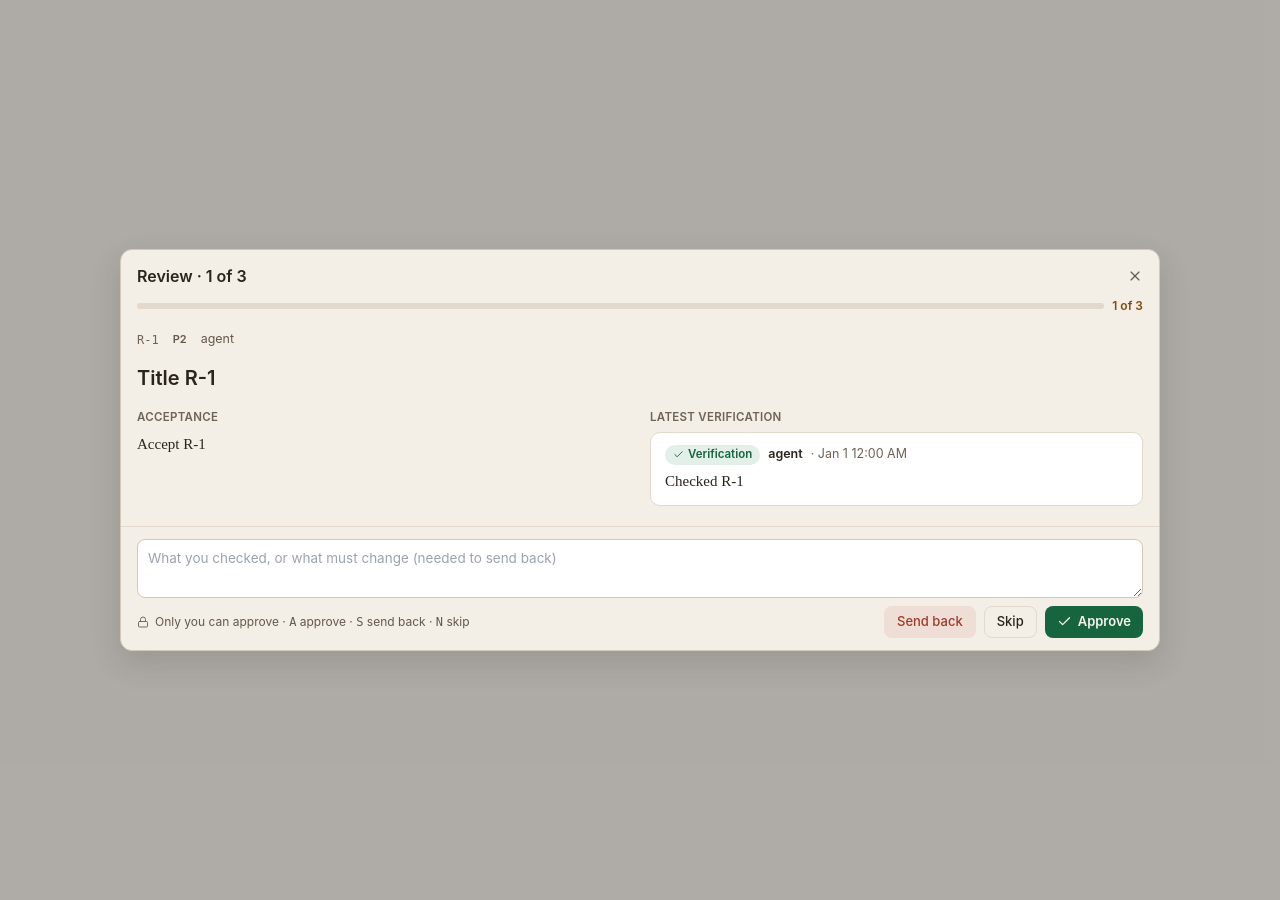
Test: ReviewMode › A approves, S needs a note, N skips; focus moves to each title; then a summary
Press a in the heading "Title R-1", box [137, 366, 216, 390]
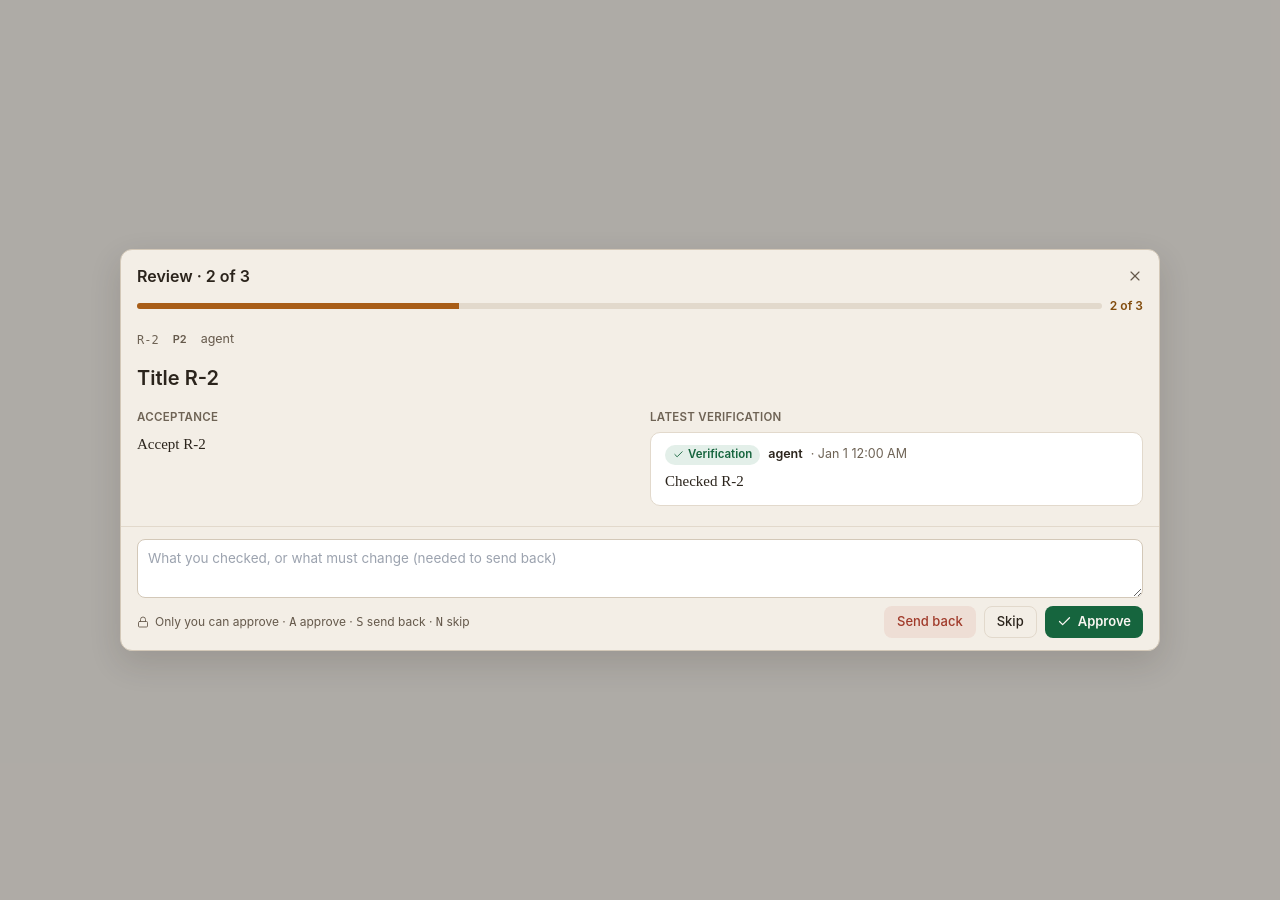
Expected: the heading "Title R-2" is shown
Press s in the heading "Title R-2", box [137, 366, 219, 390]
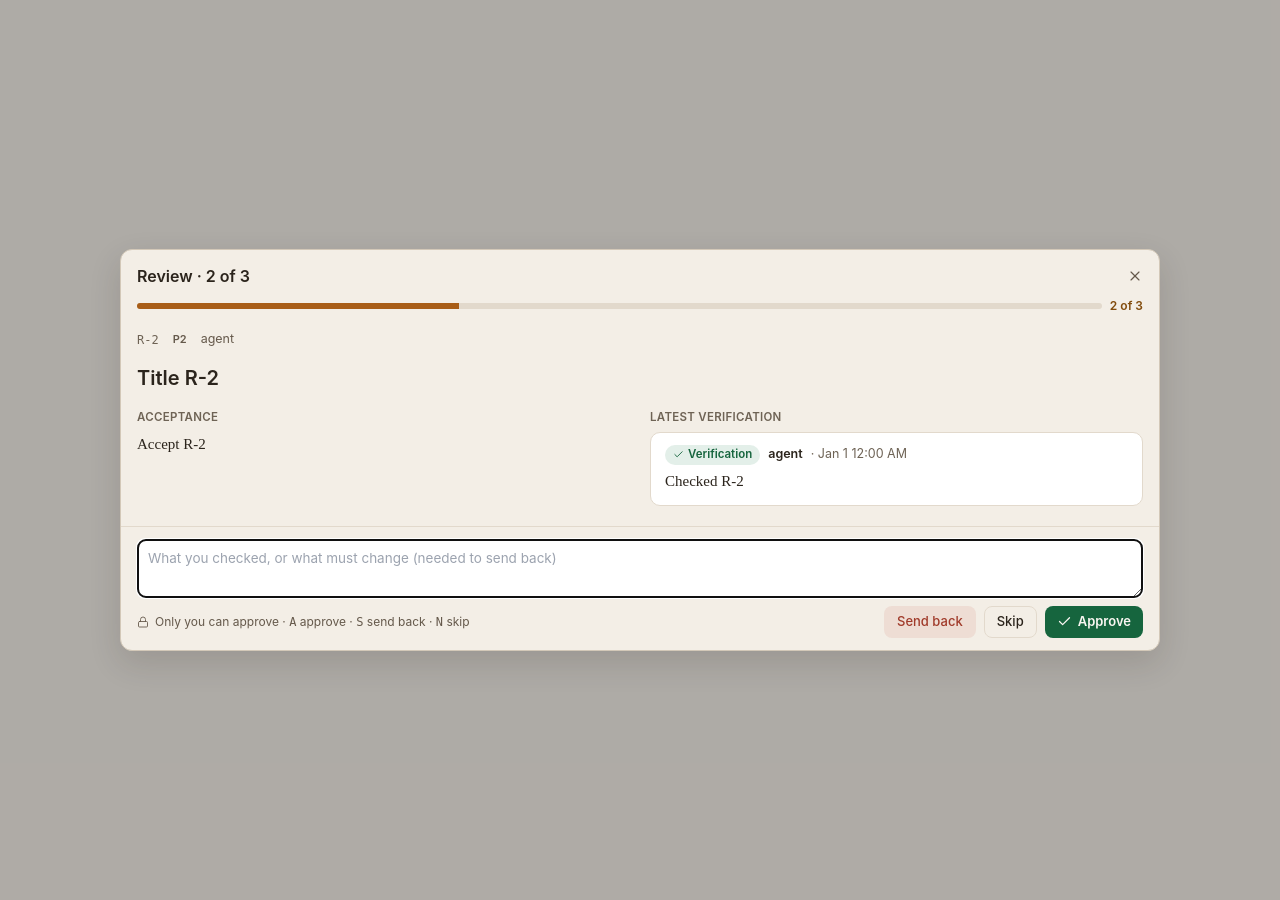
In the text box with placeholder "What you checked, or what must change (needed to send back)": (640, 568) [137, 539, 1143, 598], type "Needs a dark-mode pass"
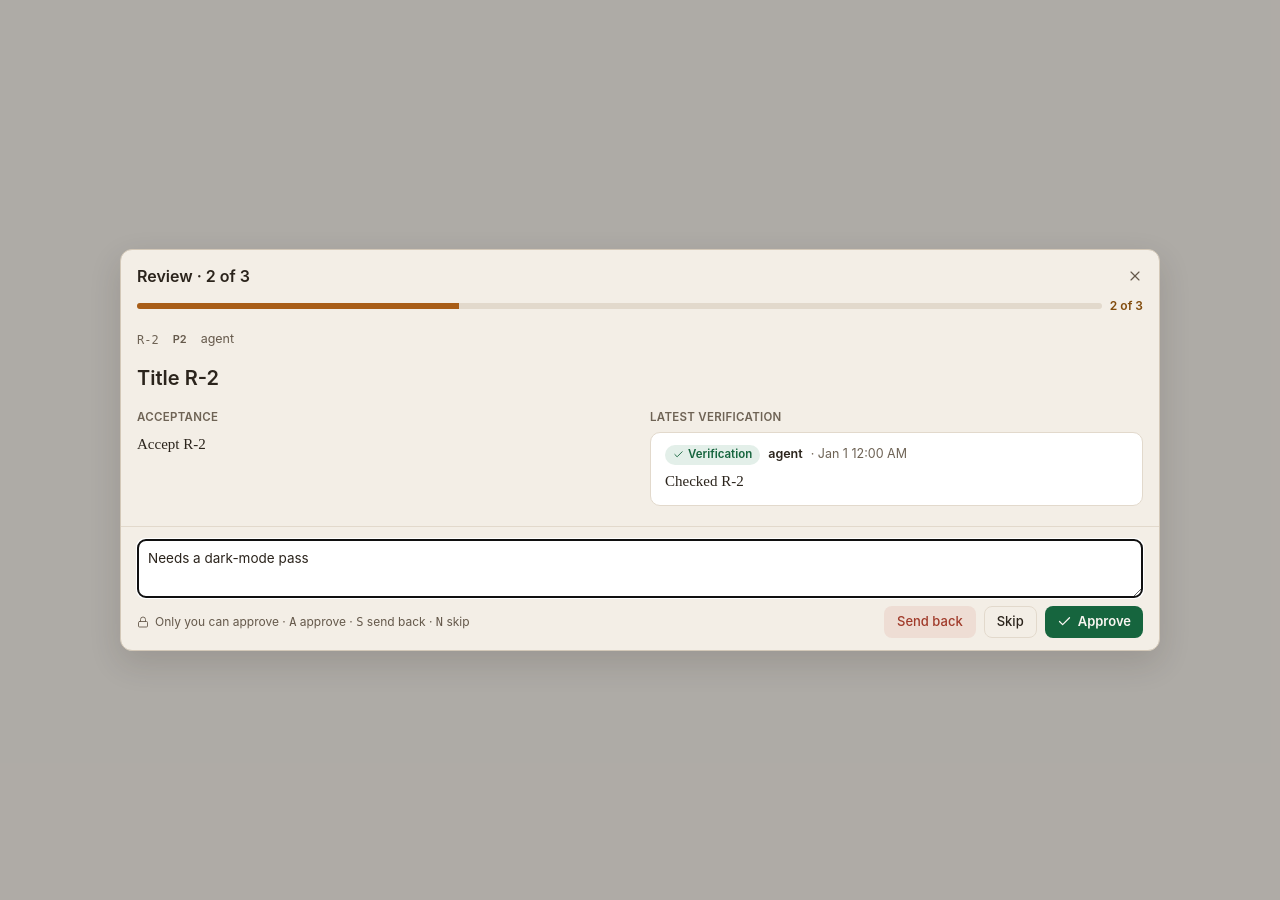
Press a in the text box, box [137, 539, 1143, 598]
Click the button "Send back": (930, 622) [884, 606, 976, 638]
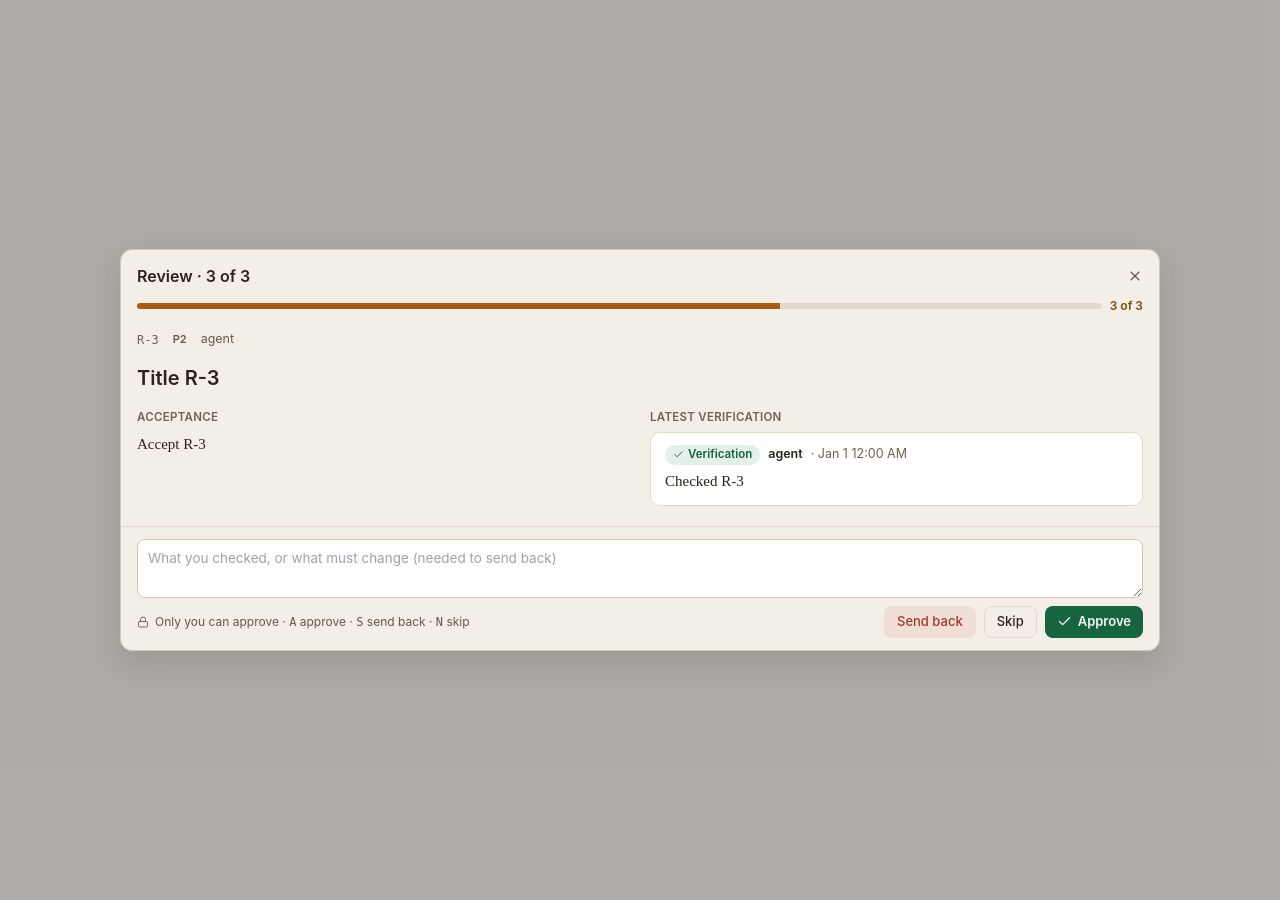
Expected: the heading "Title R-3" is shown
Press n in the heading "Title R-3", box [137, 366, 220, 390]
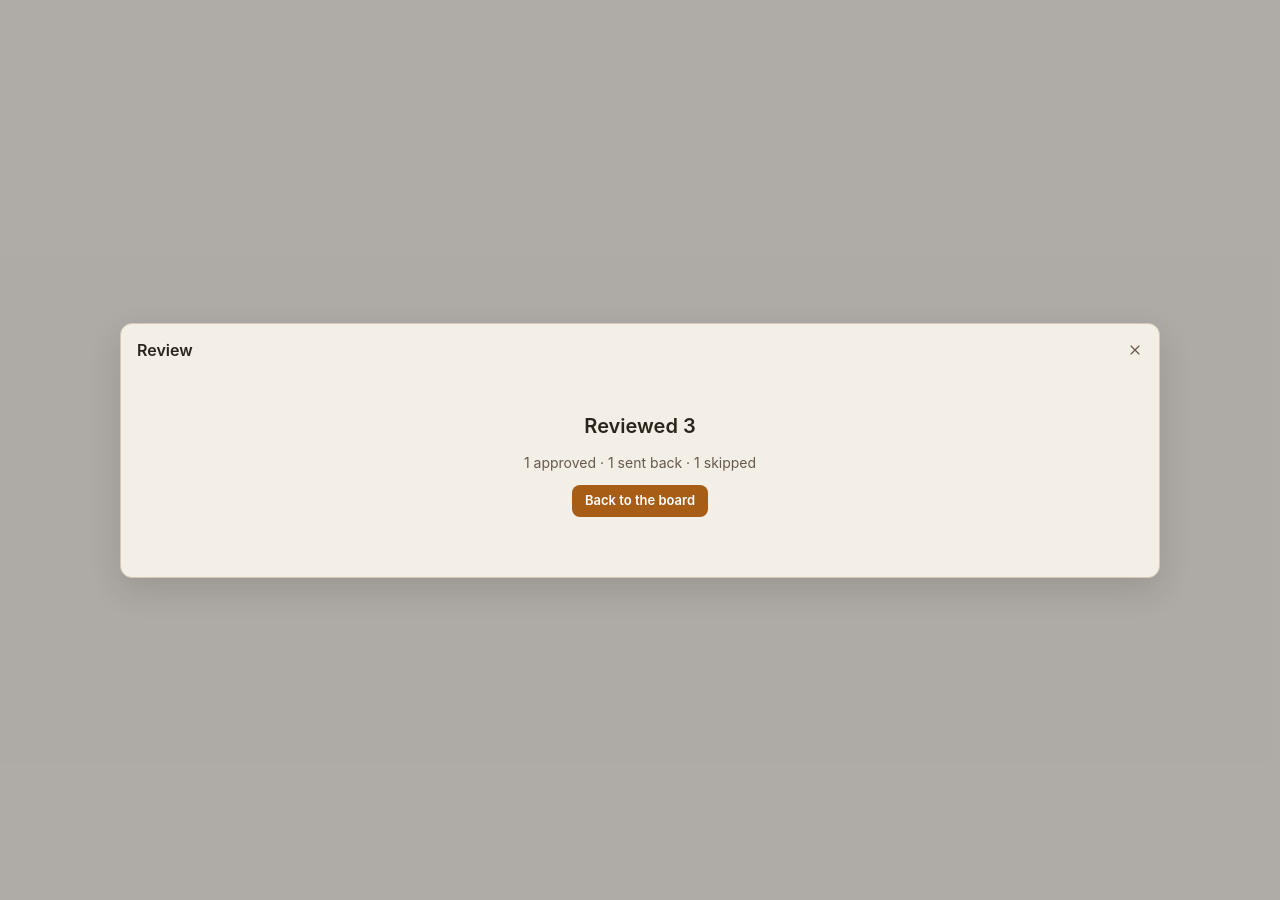
Expected: the text "1 approved · 1 sent back · 1 skipped" is shown, [524, 452, 756, 472]
Expected: the heading "Reviewed 3" is shown, [584, 412, 696, 440]
